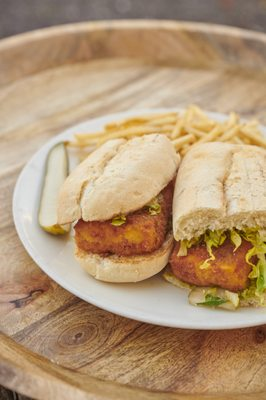soup: (40, 134, 179, 283), (164, 141, 266, 310)
